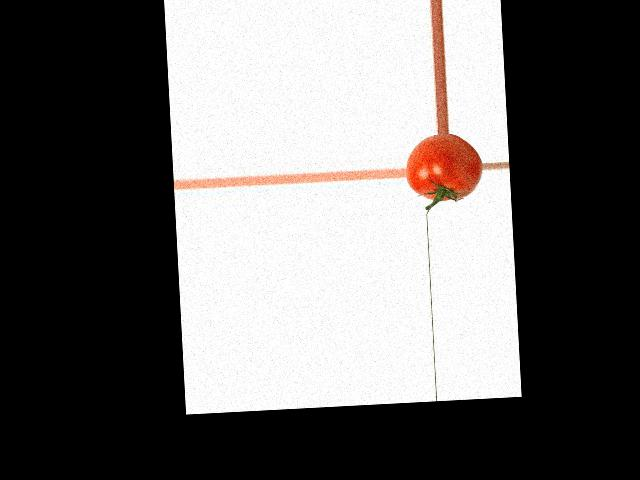tomato: (404, 133, 484, 203)
